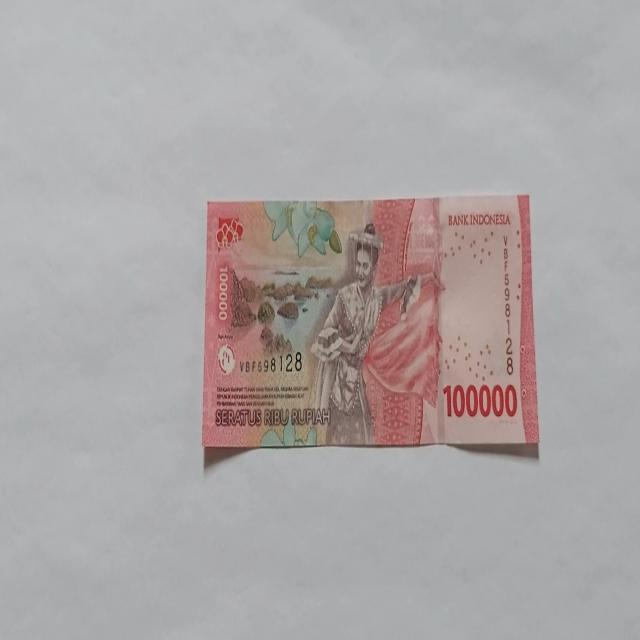seratus ribu rupiah: (202, 194, 539, 452), (308, 222, 432, 446)
